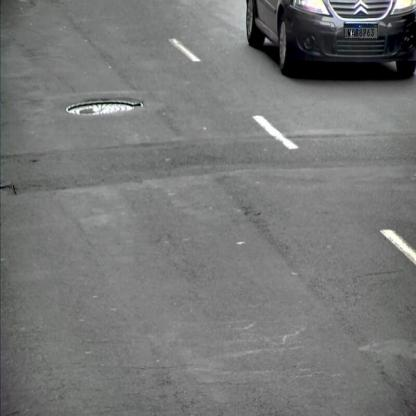PlacaM: (344, 23, 378, 39)
